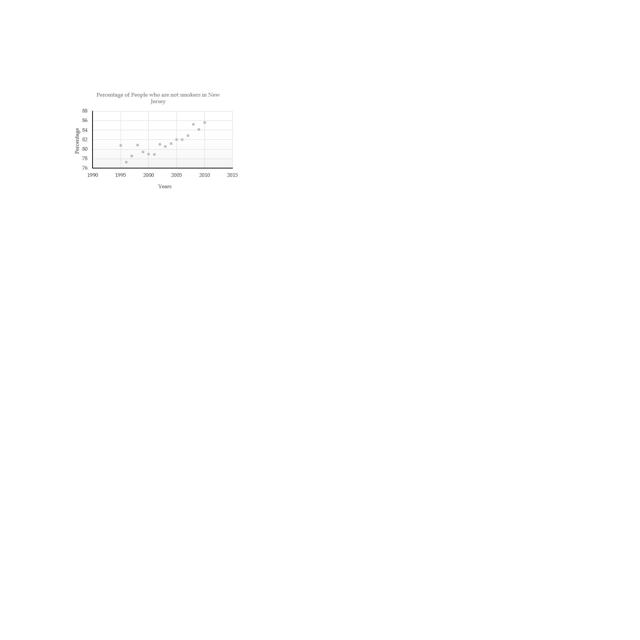Graph: (71, 90, 241, 191)
